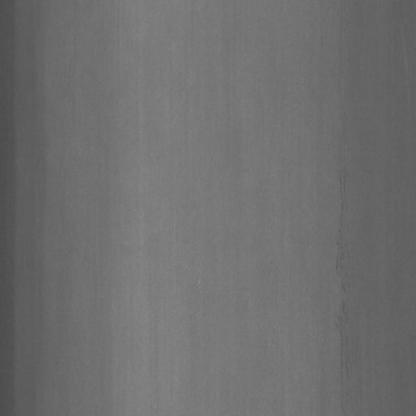silk_spot: (328, 113, 372, 384)
